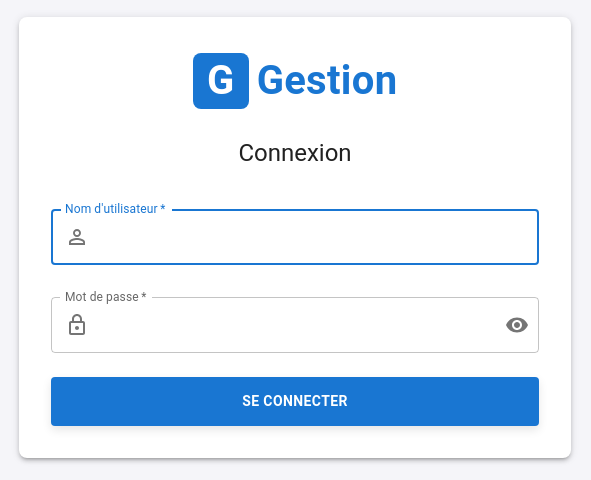
Test: Login Component › should disable login button while loading
In the field labelled "Nom d'utilisateur *": (318, 237) [97,209,539,265], type "testuser"
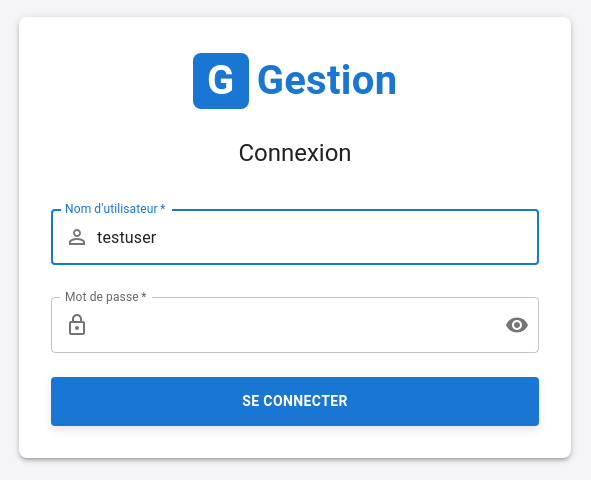
In the password field labelled "Mot de passe *": (293, 325) [97,297,489,353], type "testpass123"
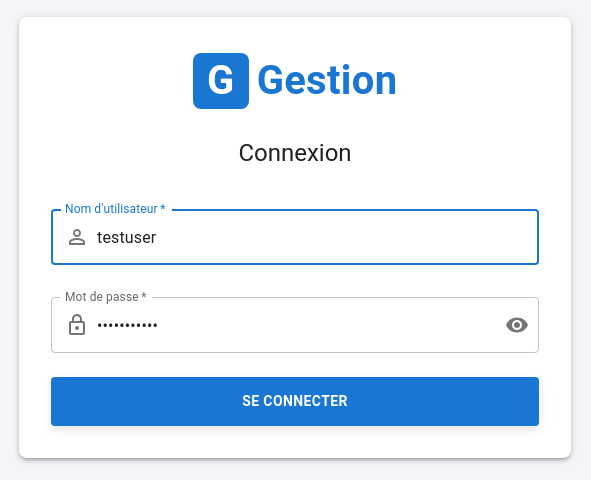
Click the button "Se connecter": (295, 401) [51,377,539,426]
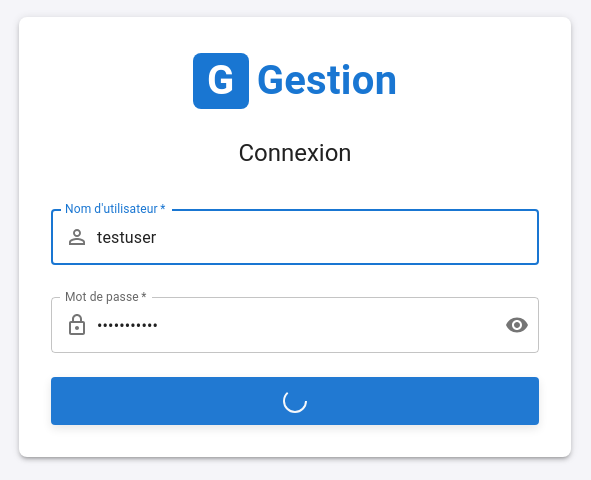
Result: the button named "se connecter" is disabled at [51,377,539,425]
